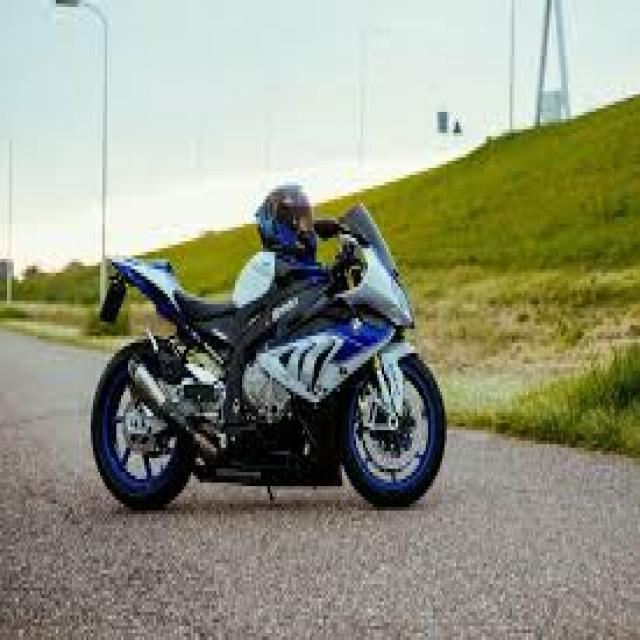Bike: (91, 204, 446, 513)
